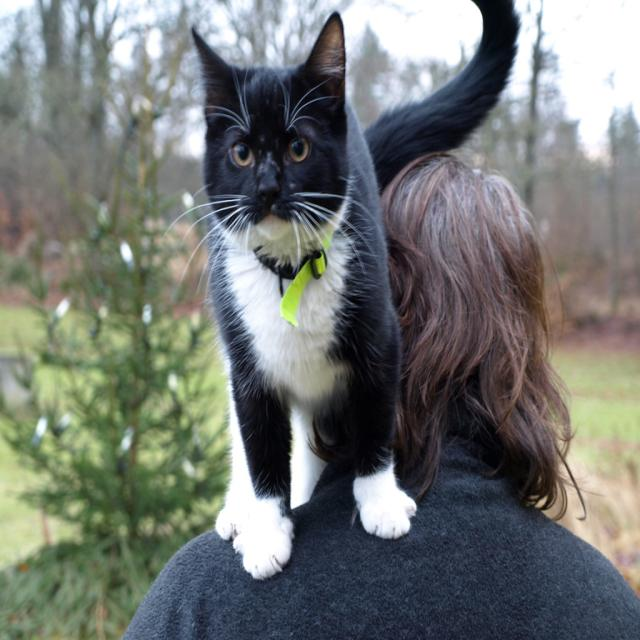Cat: (160, 0, 520, 586)
